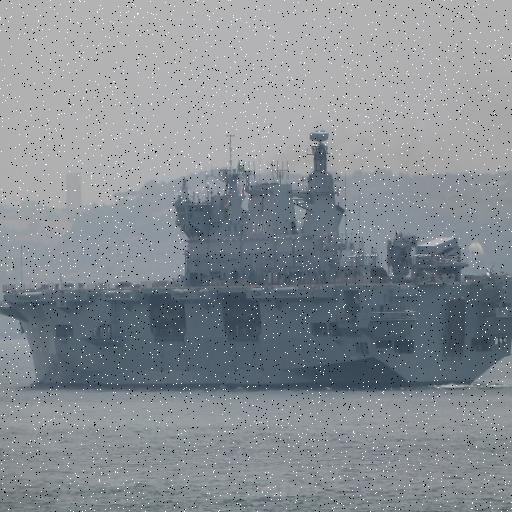Portanaves: (1, 126, 512, 393)
